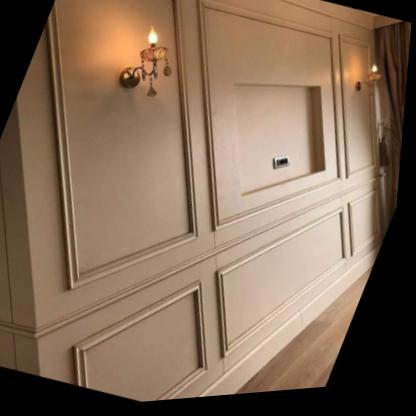Futec frame: (36, 0, 228, 405), (198, 0, 358, 373)
